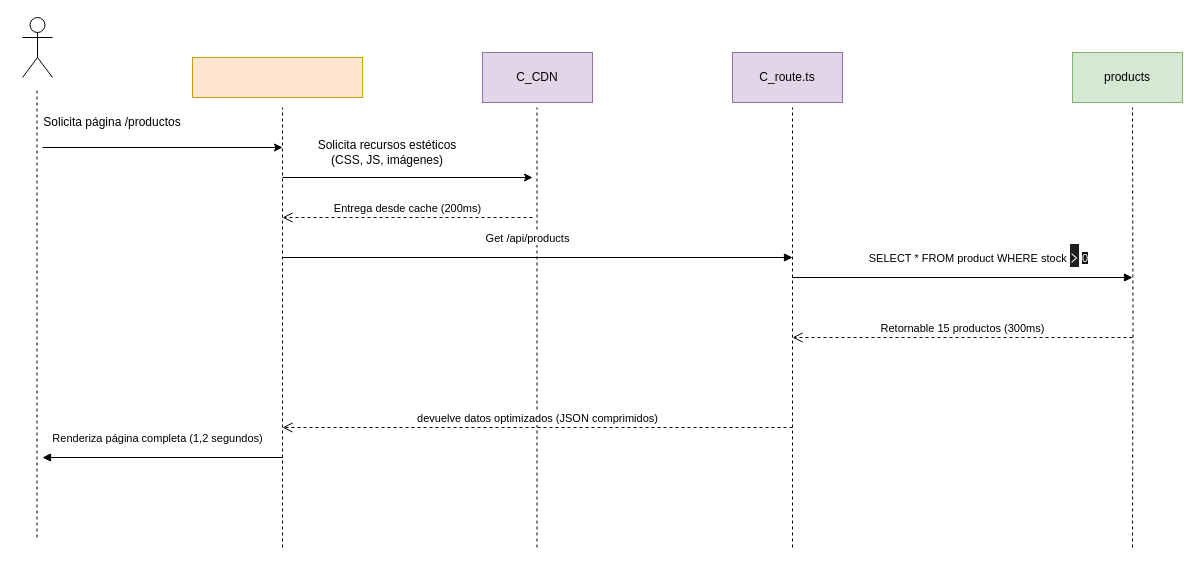
Some shapes in this 1200 by 566 pixel diagram are drawn without their labels. Here are the shapes that lost their labels. From the top down, the box of each, then its label:
(22, 16, 52, 78): Usuario
(192, 56, 362, 98): V_page.tsx
